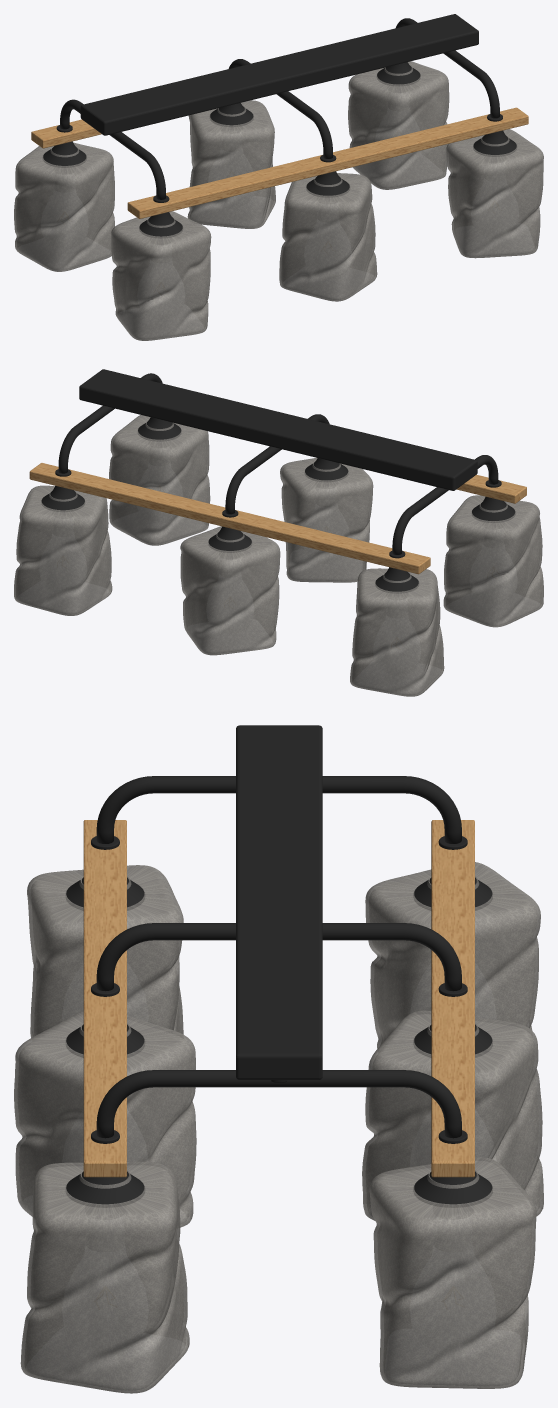
The picture shows the model from 3 angles, top to bottom: view 1: azimuth 30°, elevation 25°; view 2: azimuth 150°, elevation 25°; view 3: azimuth 270°, elevation 25°; orthographic projection. The views are drawn at different scales.
Parts seen in each view (by area): view 1: glass, black, wood; view 2: glass, black, wood; view 3: glass, black, wood.
Boxes of the visible parts, bbox=[...] form: glass: bbox=[14, 61, 543, 340]; black: bbox=[43, 14, 516, 238]; wood: bbox=[31, 107, 528, 218]; glass: bbox=[14, 415, 543, 696]; black: bbox=[41, 369, 515, 593]; wood: bbox=[29, 463, 526, 574]; glass: bbox=[14, 862, 543, 1393]; black: bbox=[66, 725, 492, 1207]; wood: bbox=[83, 820, 474, 1177].
Bounding box in the file's own units: 0.599 × 0.245 × 0.3656.
Materials: 6 (2 with a texture image).
